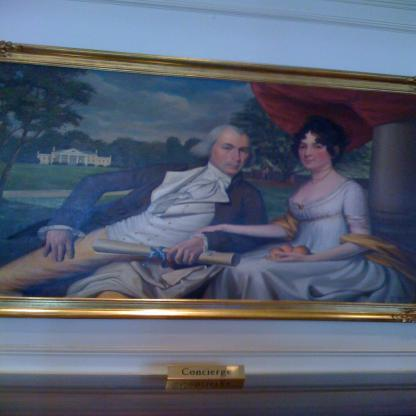Picture-frame: (2, 42, 416, 325)
